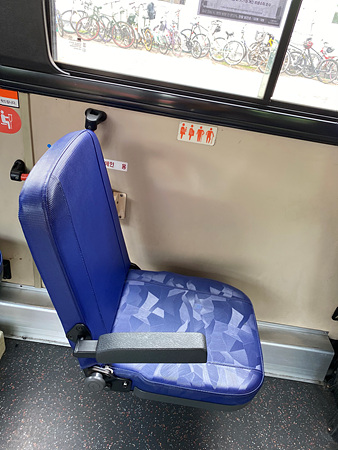seat: (19, 128, 267, 411)
